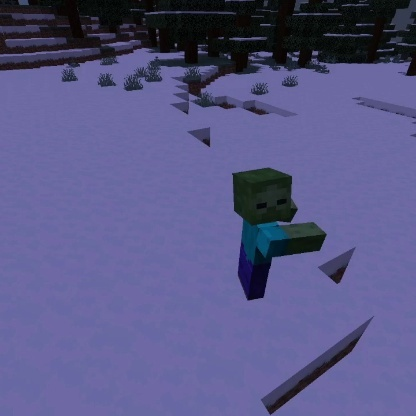zombie: (228, 164, 331, 303)
